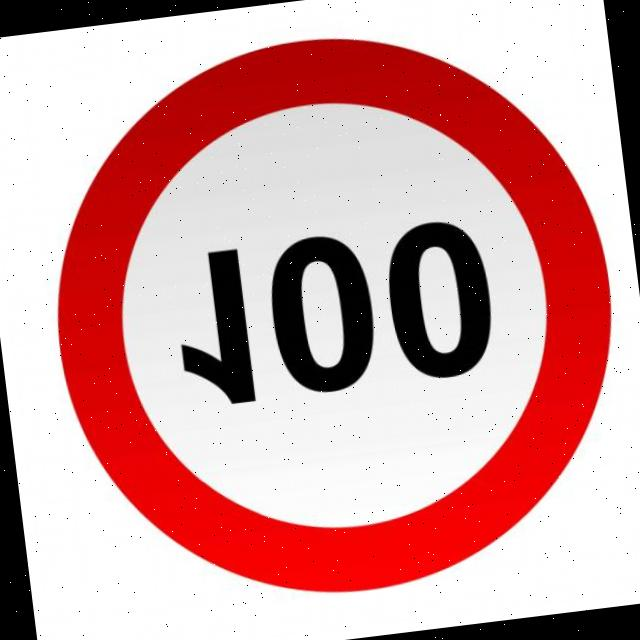speed_limit_100: (14, 0, 640, 635)
